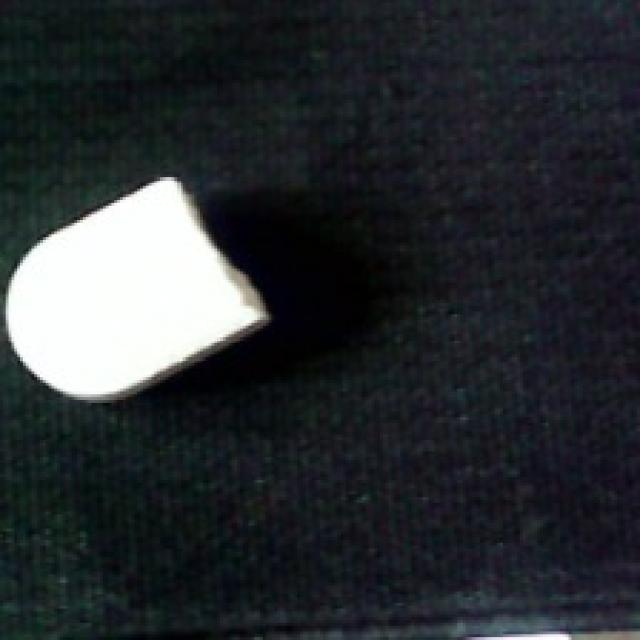defected: (0, 172, 277, 412)
